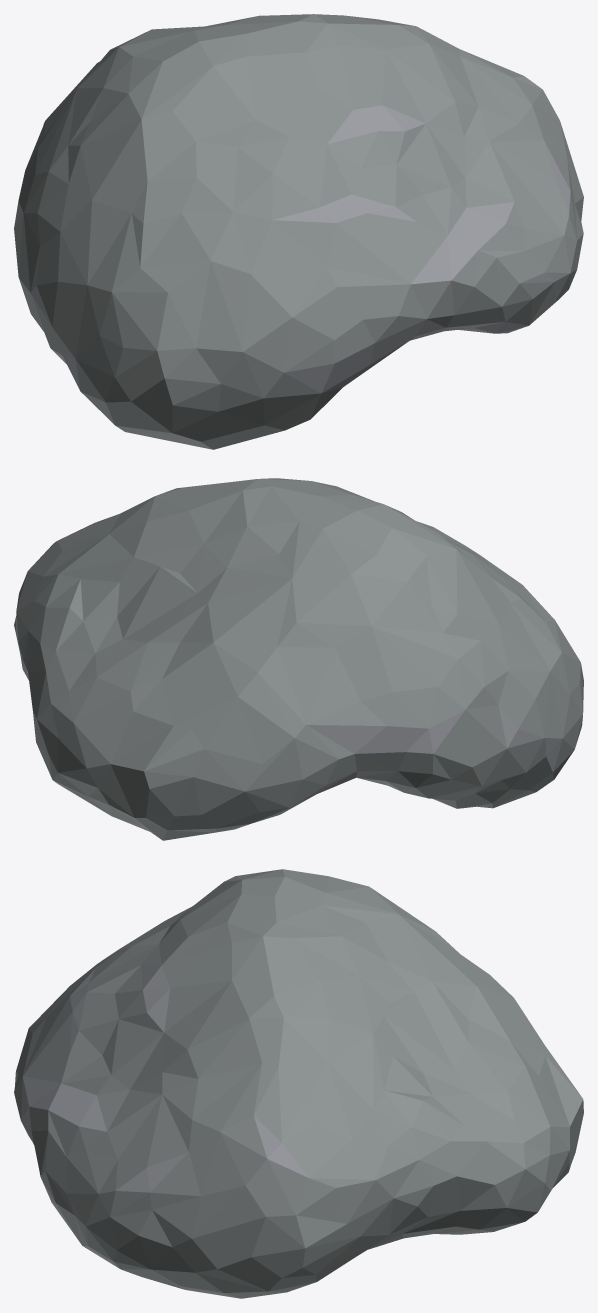
Rendered from mesh_rock_small_04.fbx.
3 renders of one model, top to bottom at view 1: azimuth 30°, elevation 25°; view 2: azimuth 150°, elevation 25°; view 3: azimuth 270°, elevation 25°, orthographic. The views are drawn at different scales.
Visible parts, largest first — view 1: mesh_rock_small_04_LOD0; view 2: mesh_rock_small_04_LOD0; view 3: mesh_rock_small_04_LOD0.
Part boxes in pixels (x1,y1,x2,y2): mesh_rock_small_04_LOD0: (14, 14, 583, 449); mesh_rock_small_04_LOD0: (14, 478, 583, 840); mesh_rock_small_04_LOD0: (14, 869, 583, 1298).
Size of what is drawn, in the model's own units: 1.14 by 0.6806 by 1.07.
